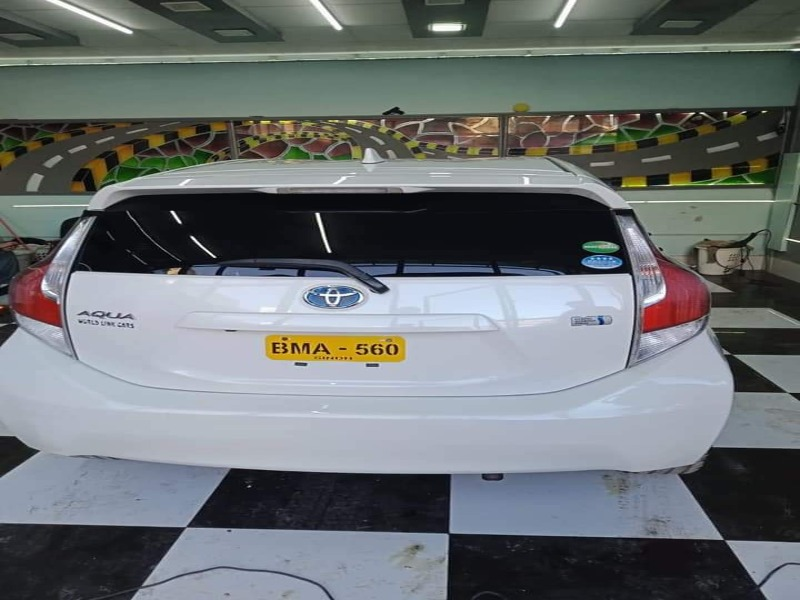License Plate: (261, 331, 410, 370)
